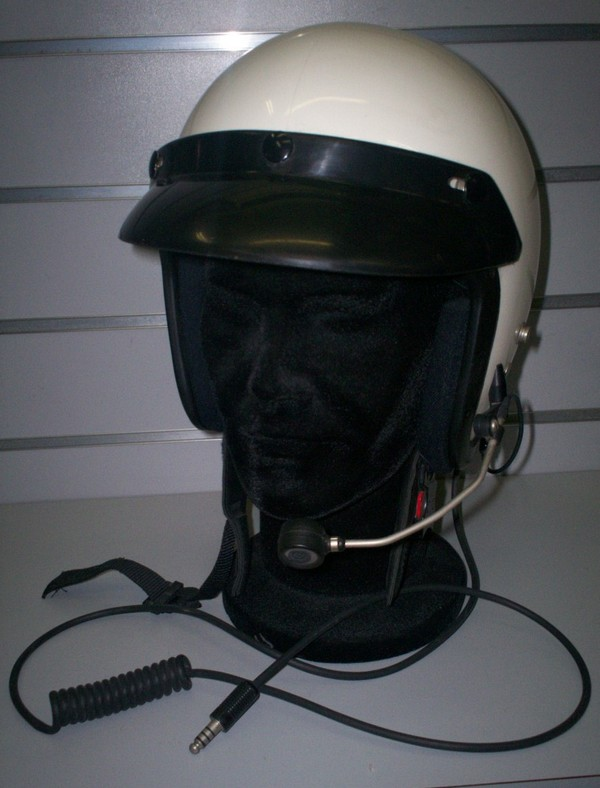helmet: (110, 24, 566, 254)
